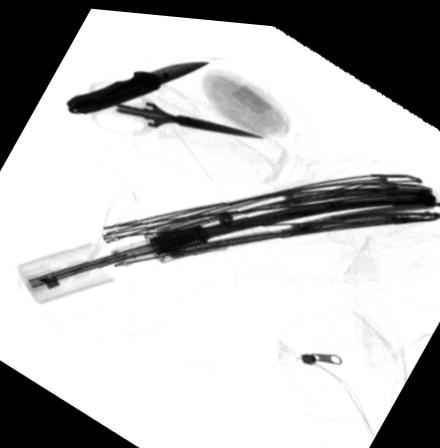Knife: (65, 57, 211, 112)
Scissors: (85, 78, 264, 134)
